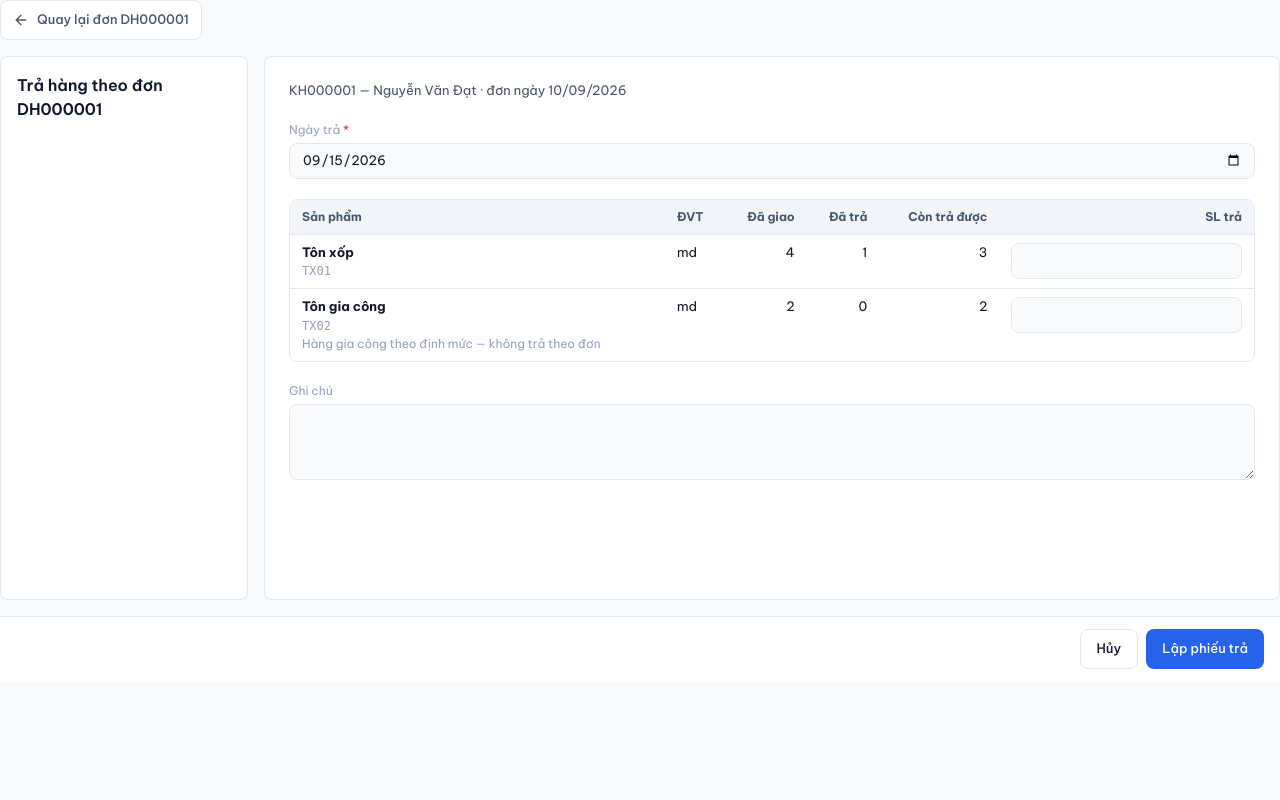
Scenario: ReturnByOrderForm (43) › chưa nhập SL nào ⇒ báo lỗi, không gọi API
The width and height of the screenshot is (1280, 800).
Click the button "Lập phiếu trả" at [1205, 649], box x1=1146 y1=629 x2=1264 y2=669
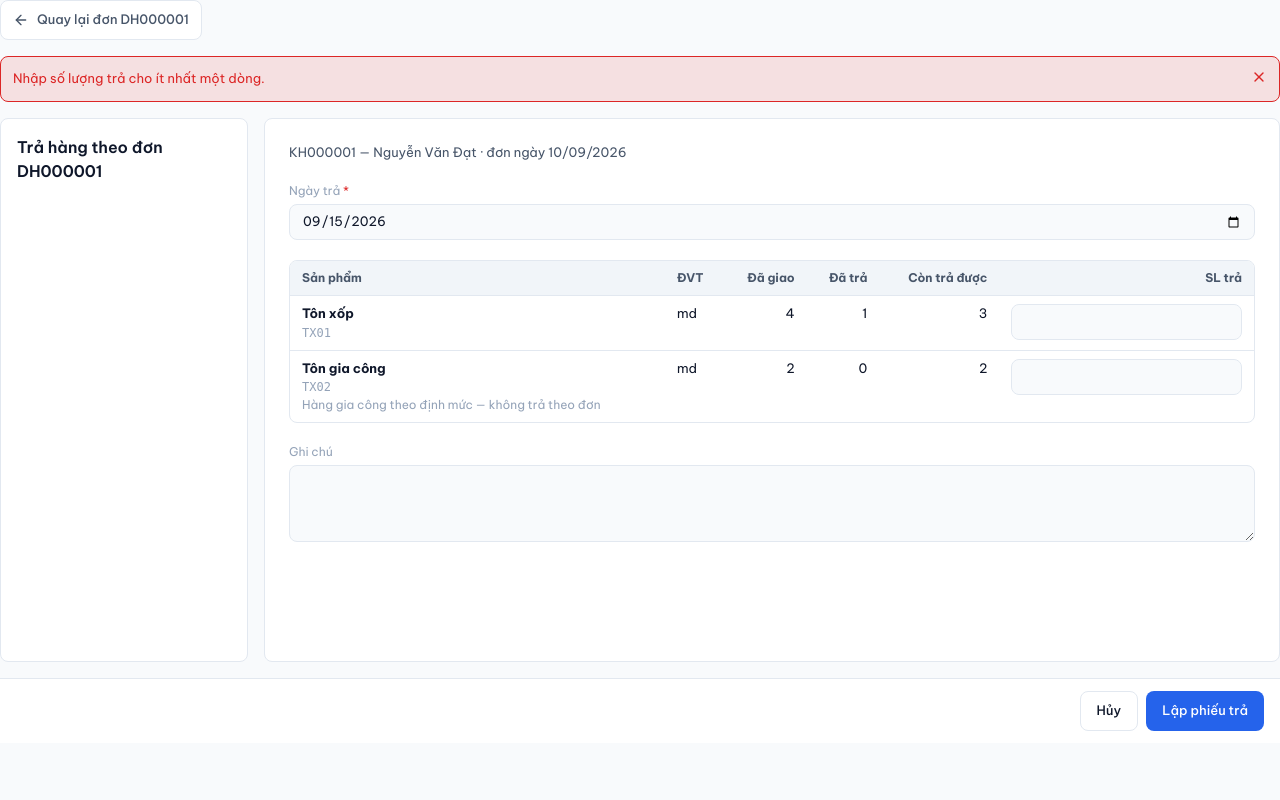
Expected: the text "Nhập số lượng trả cho ít nhất một dòng." is shown, x1=13 y1=69 x2=265 y2=88
